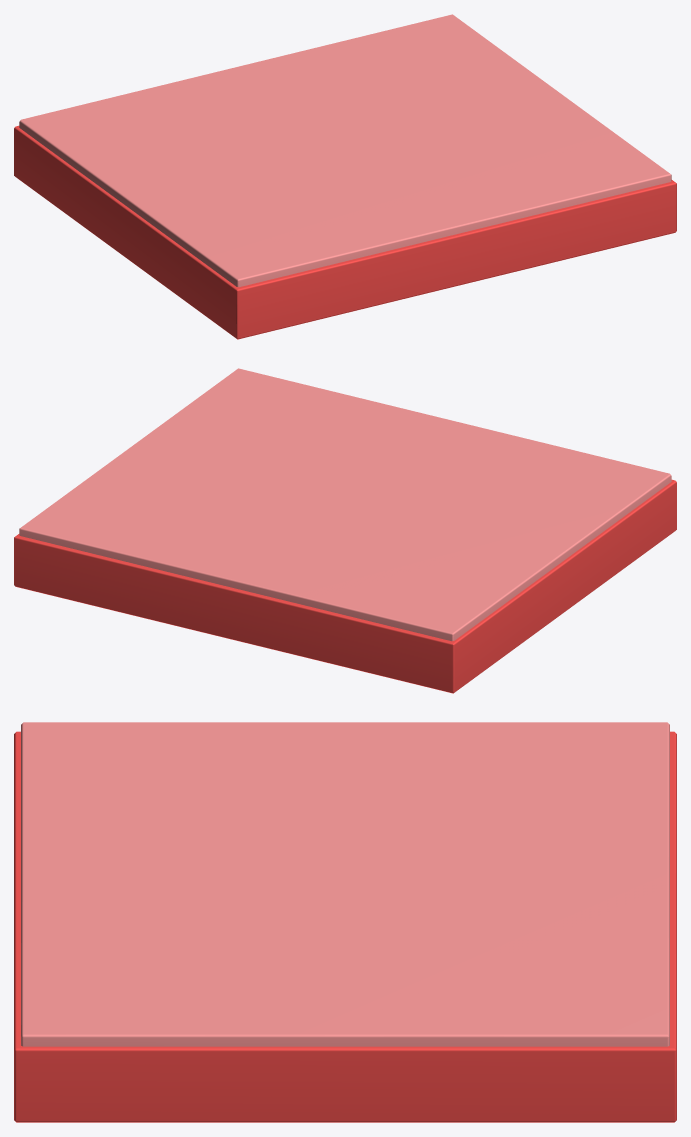
Rendered from Store_20_Base_1.glb.
3 renders of one model, top to bottom at view 1: azimuth 30°, elevation 25°; view 2: azimuth 150°, elevation 25°; view 3: azimuth 270°, elevation 25°, orthographic. The views are drawn at different scales.
Parts seen in each view (by area): view 1: Store_20_Base_1; view 2: Store_20_Base_1; view 3: Store_20_Base_1.
Part boxes in pixels (bbox=[...]): Store_20_Base_1: bbox=[14, 14, 676, 339]; Store_20_Base_1: bbox=[14, 368, 676, 693]; Store_20_Base_1: bbox=[14, 722, 676, 1122].
Size of the model in its own units: 12.81 by 1.62 by 11.27.
Materials: 1 (1 with a texture image).
